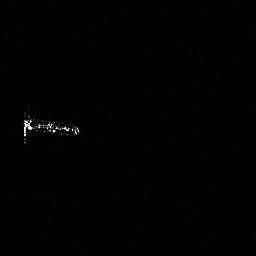ship: (20, 107, 82, 148)
